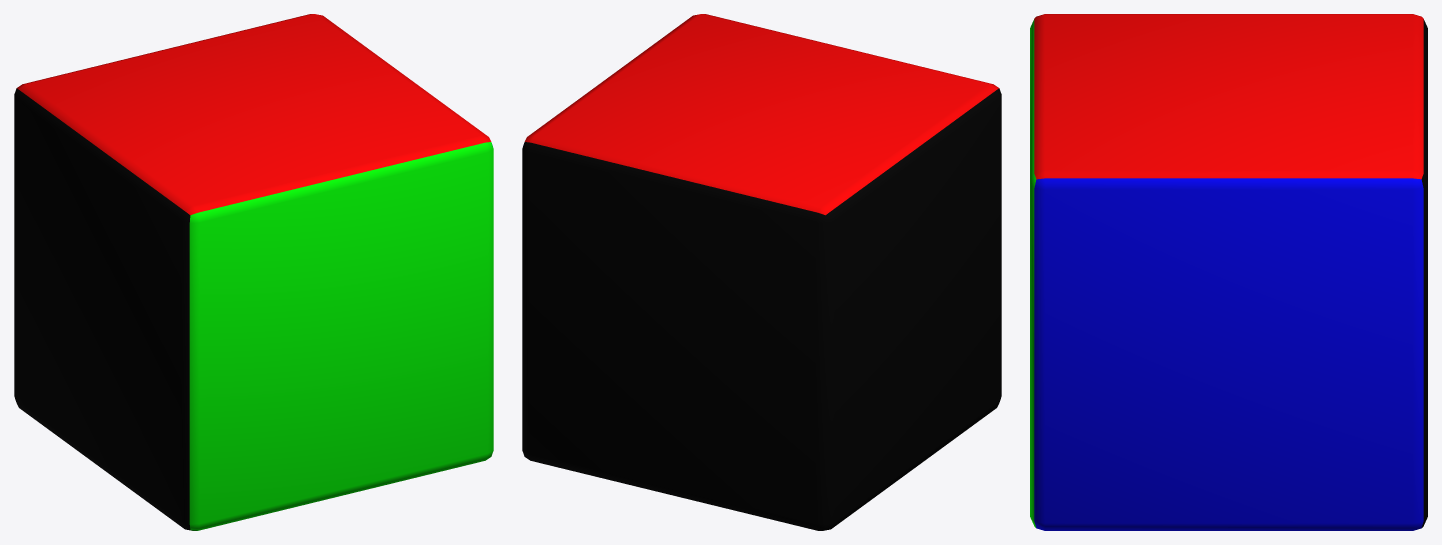
File: corner_piece.obj
3 renders of one model, left to right at view 1: azimuth 30°, elevation 25°; view 2: azimuth 150°, elevation 25°; view 3: azimuth 270°, elevation 25°, orthographic. The views are drawn at different scales.
Parts seen in each view (by area): view 1: Cube; view 2: Cube; view 3: Cube.
Boxes of the visible parts, box(x1,y1,x2,y2) form: Cube: box(14, 14, 493, 530); Cube: box(522, 14, 1001, 530); Cube: box(1030, 14, 1427, 530).
Bounding box in the file's own units: 2 × 2 × 2.
